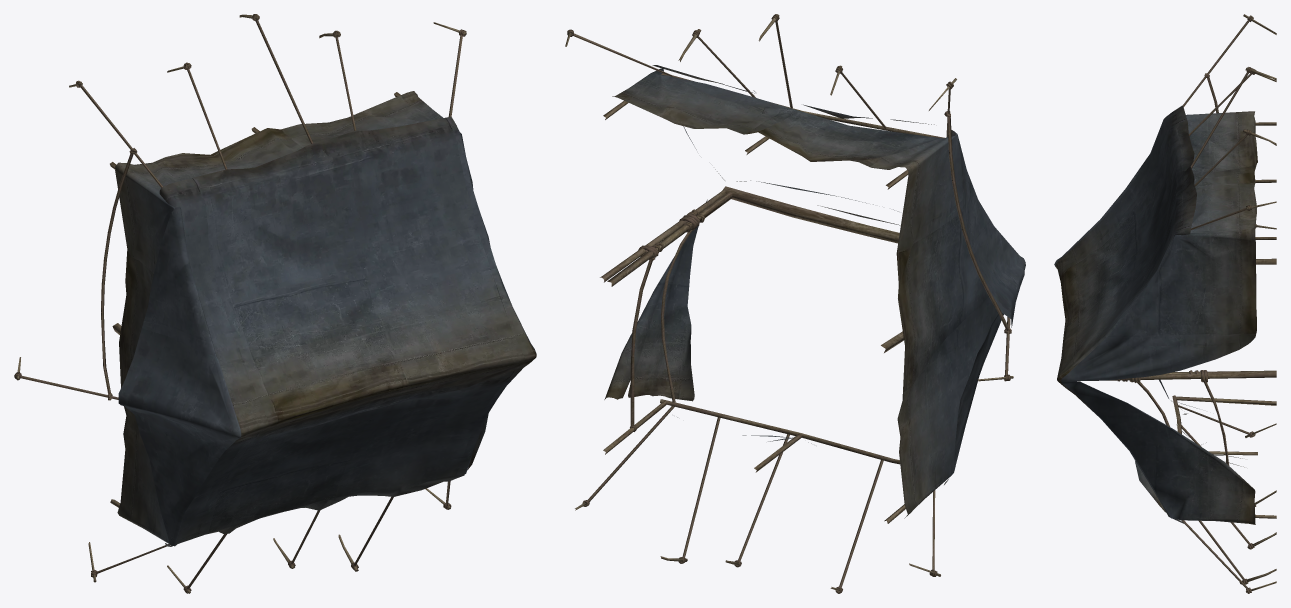
File: GEN_PRO_Civilian_Tent_01A_LOD0-transformed.glb
3 views of the same model, side by side, from view 1: azimuth 30°, elevation 25°; view 2: azimuth 150°, elevation 25°; view 3: azimuth 270°, elevation 25° (orthographic). The views are drawn at different scales.
Visible parts, largest first — view 1: GEN_PRO_Civilian_Tent_01A_LOD0; view 2: GEN_PRO_Civilian_Tent_01A_LOD0; view 3: GEN_PRO_Civilian_Tent_01A_LOD0.
Boxes of the visible parts, bbox=[...] form: GEN_PRO_Civilian_Tent_01A_LOD0: bbox=[14, 14, 536, 593]; GEN_PRO_Civilian_Tent_01A_LOD0: bbox=[565, 14, 1025, 593]; GEN_PRO_Civilian_Tent_01A_LOD0: bbox=[1054, 14, 1276, 593].
Bounding box in the file's own units: 0.0524 × 0.0644 × 0.0271.
Materials: 3 (3 with a texture image).
